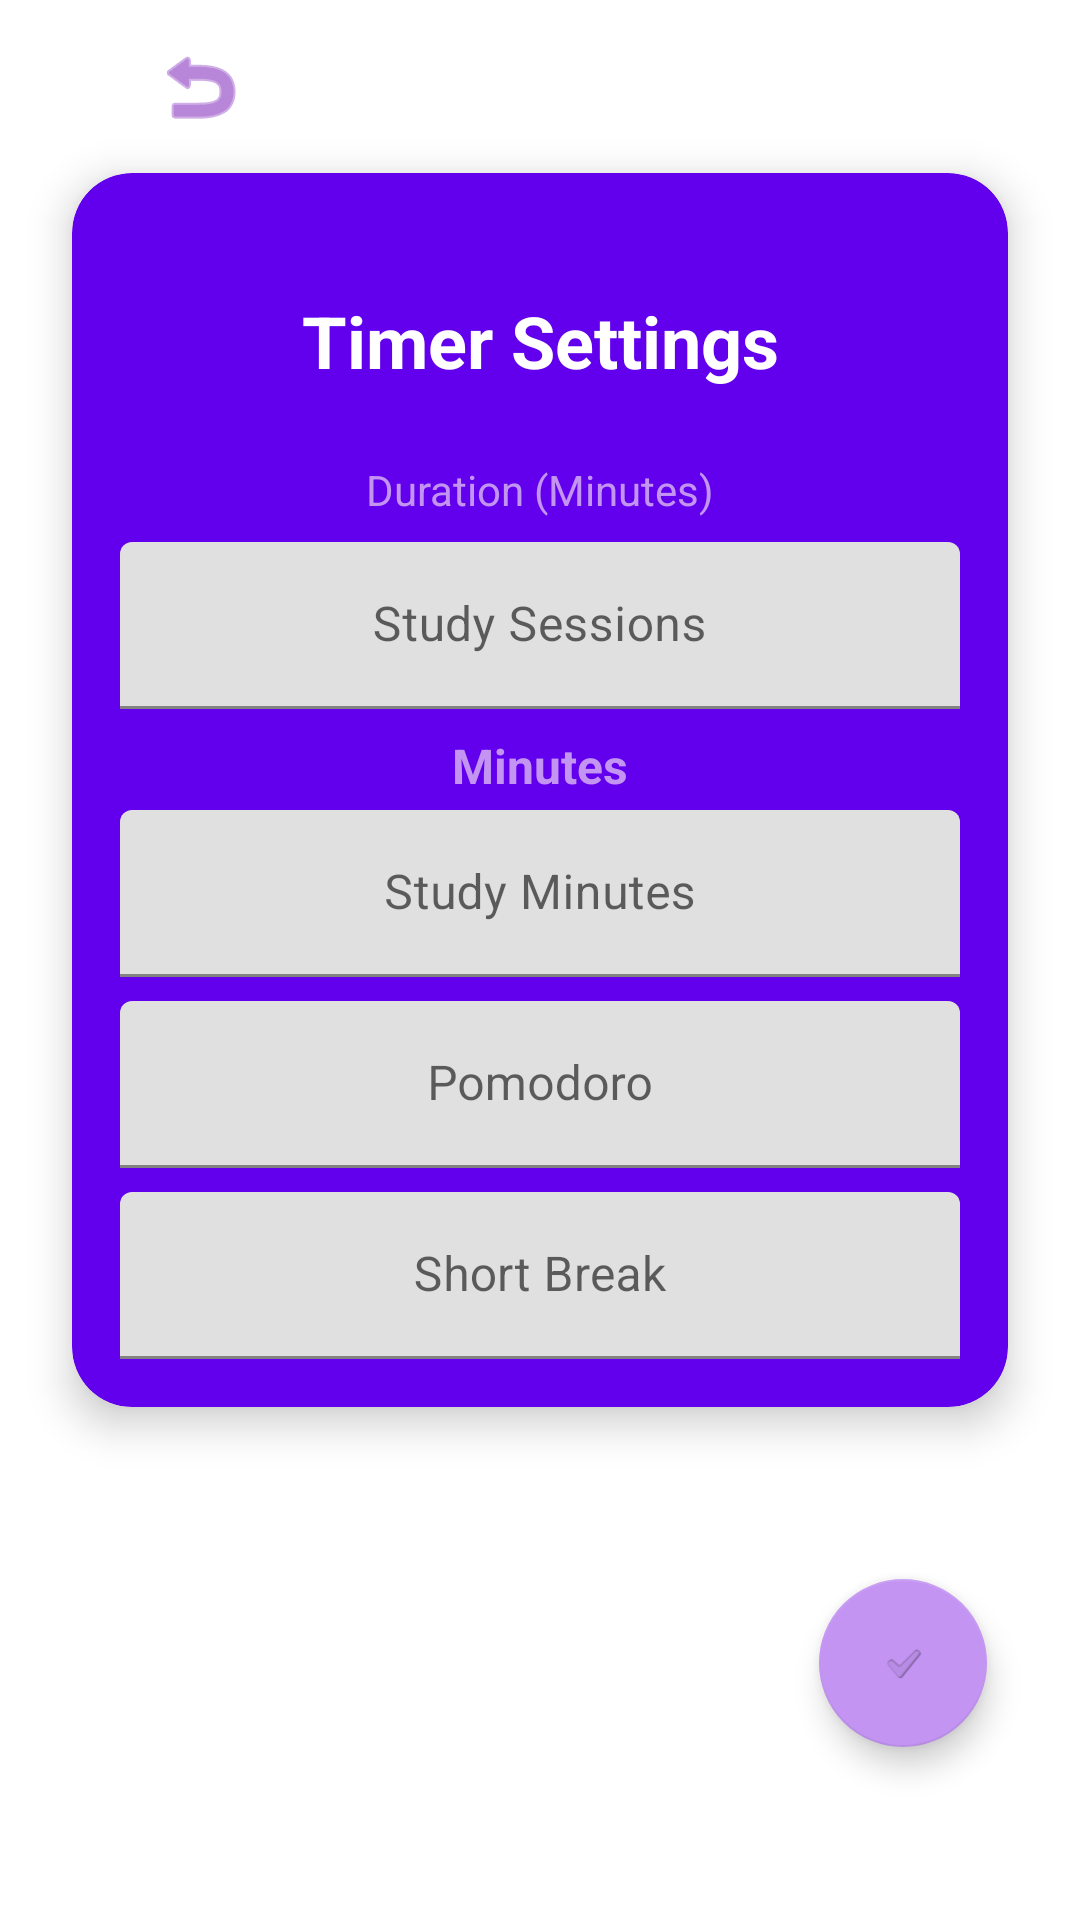

Icon click points for this 1080w x 1920h phone screenshot, format point (x, y):
Back to Home: point (201, 87)
